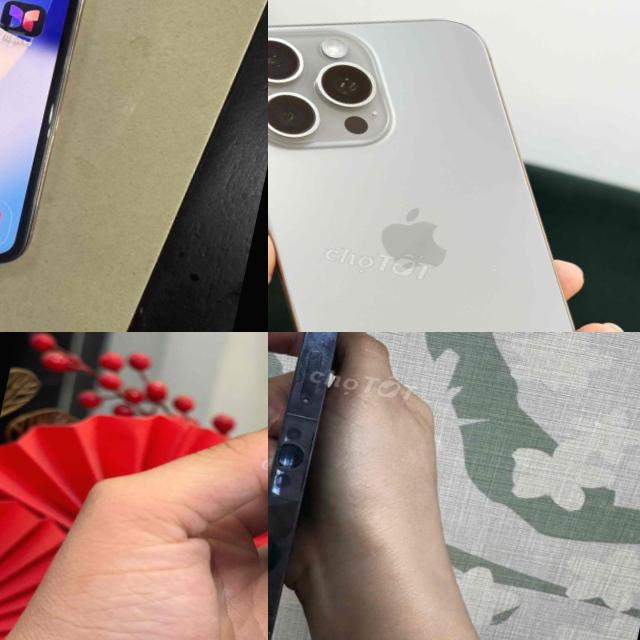gen_11: (0, 0, 131, 274)
gen_12_13: (268, 332, 406, 640)
gen_15: (268, 0, 640, 332), (155, 332, 268, 640)
